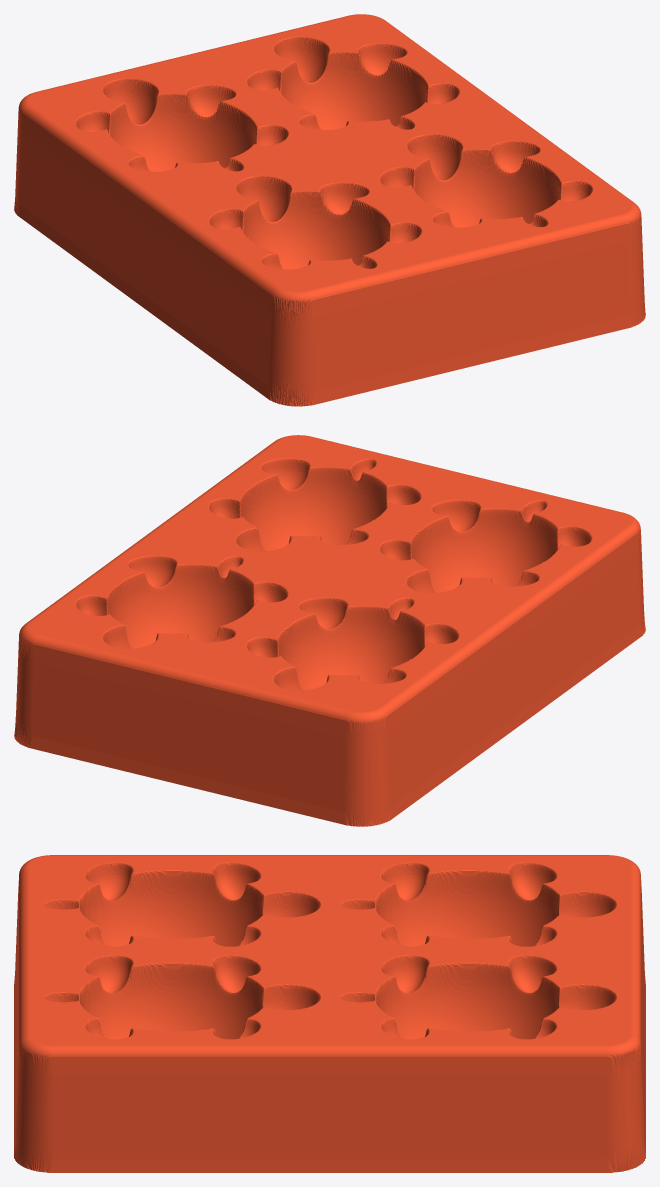
Rendered from mold.glb.
3 views of the same model, one above another, from view 1: azimuth 30°, elevation 25°; view 2: azimuth 150°, elevation 25°; view 3: azimuth 270°, elevation 25° (orthographic). The views are drawn at different scales.
Parts seen in each view (by area): view 1: geometry_0; view 2: geometry_0; view 3: geometry_0.
Part boxes in pixels (<box>): geometry_0: <box>14,14,645,406</box>; geometry_0: <box>14,435,645,826</box>; geometry_0: <box>14,855,645,1172</box>.
Bounding box in the file's own units: 0.1111 × 0.031 × 0.1466.
